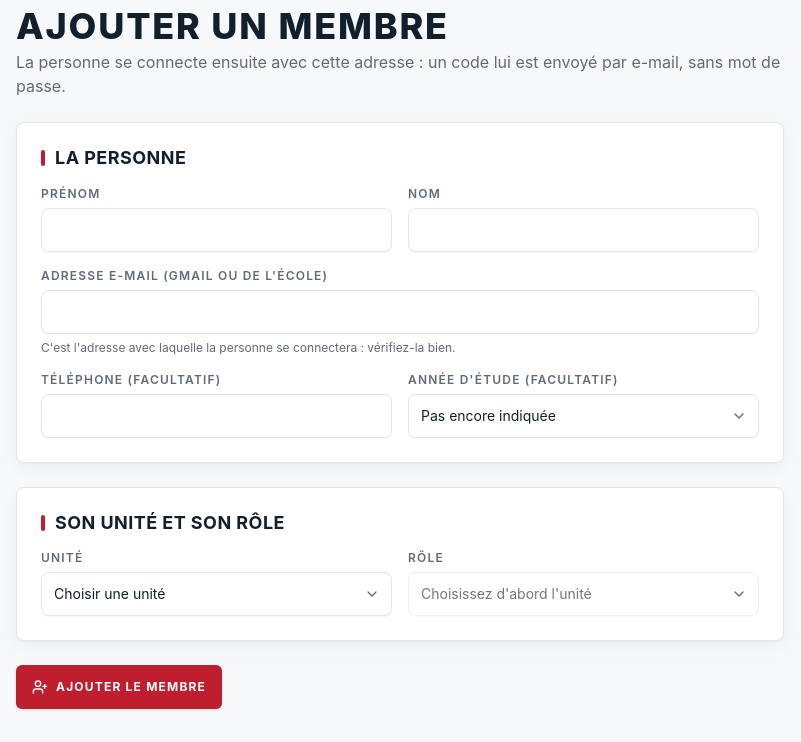
Test: AddMember › adds a member to a unit with a role of that unit, then is ready for the next one
The image size is (801, 742).
Type "Nadia" into the field labelled "Prénom" at x=216, y=230, box [41,208,392,252]
Type "New" into the field labelled "Nom" at x=584, y=230, box [408,208,759,252]
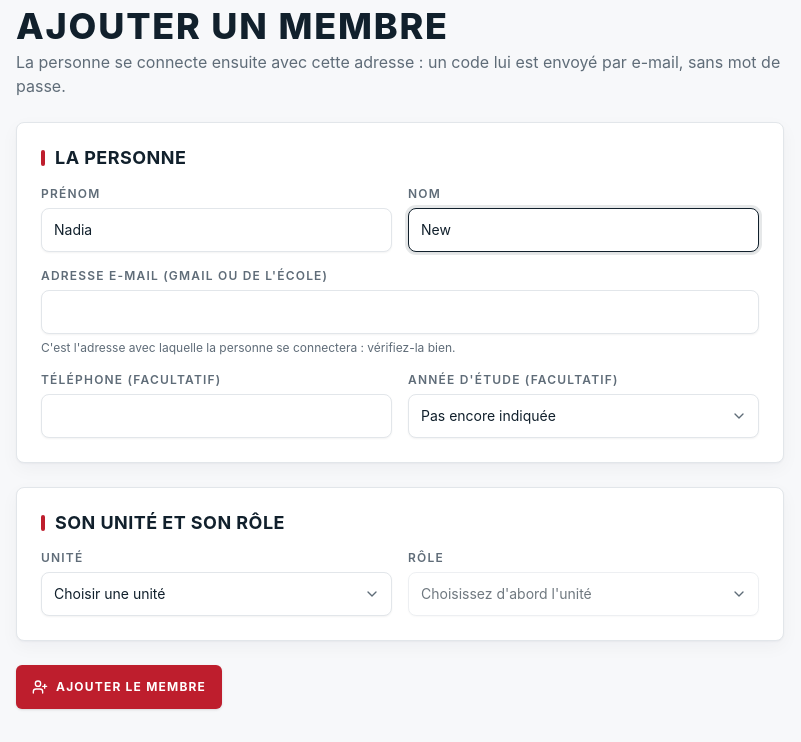
Type "nadia.new@gmail.com" into the field labelled "Adresse e-mail (Gmail ou de l'école)" at x=400, y=312, box [41,290,759,334]
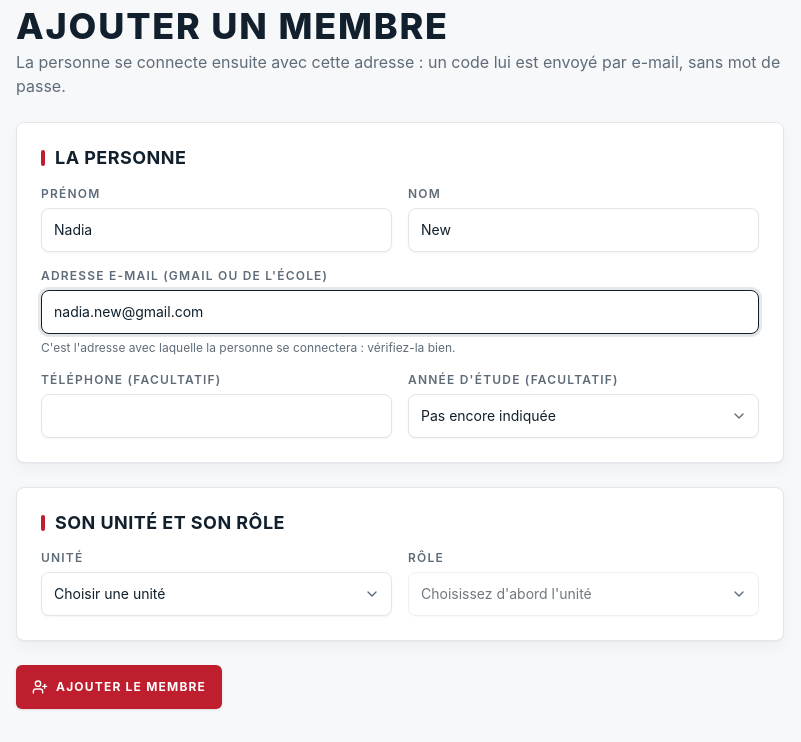
Select "Electronics" in the dropdown labelled "Unité" at x=216, y=594, box [41,572,392,616]
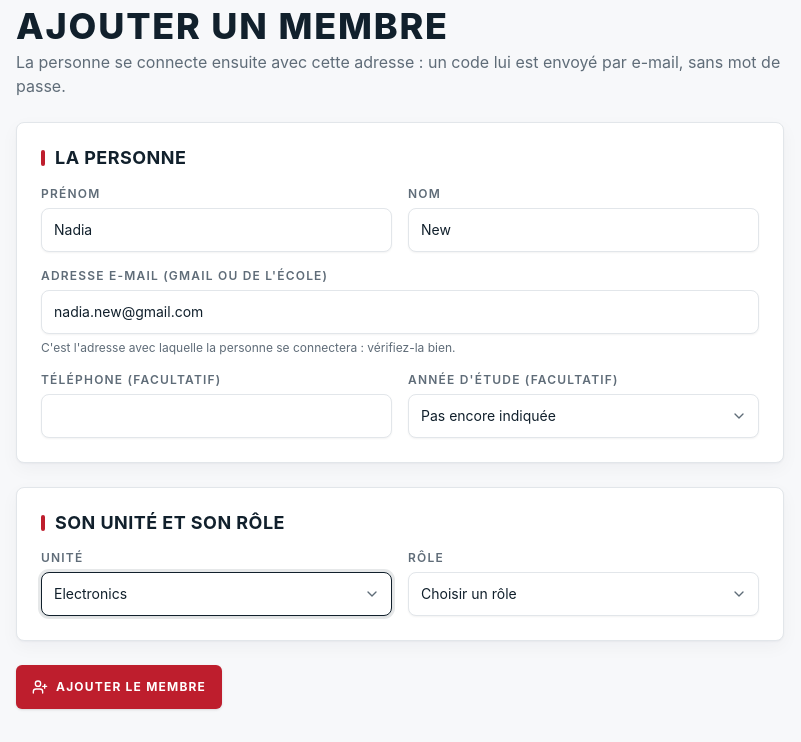
Select "Engineer" in the dropdown labelled "Rôle" at x=584, y=594, box [408,572,759,616]
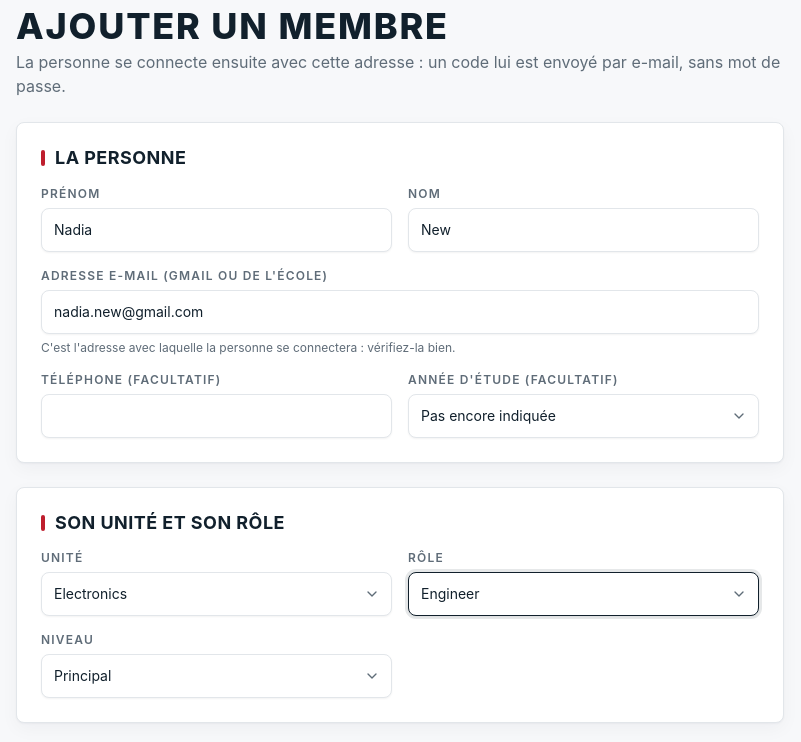
Select "Junior" in the dropdown labelled "Niveau" at x=216, y=676, box [41,654,392,698]
(page scrolled)
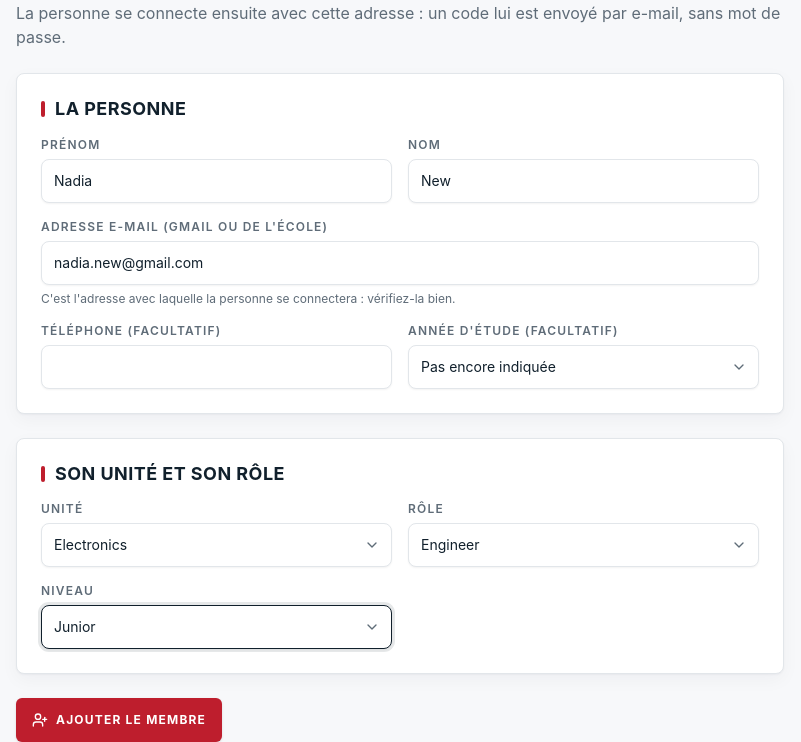
Click the button "Ajouter le membre" at x=119, y=720, box [16,698,222,741]
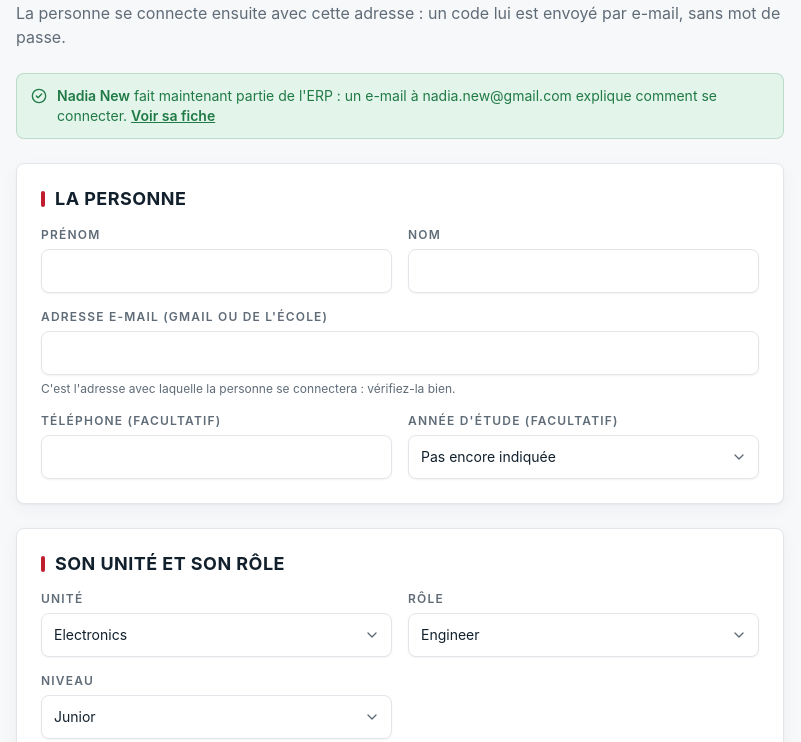
Expected: the message shows "Nadia New fait maintenant partie de l'ERP : un e-mail à nadia.new@gmail.com explique comment se connecter.", [16,73,784,139]
Expected: the field labelled "Prénom" is empty, [41,248,392,292]
